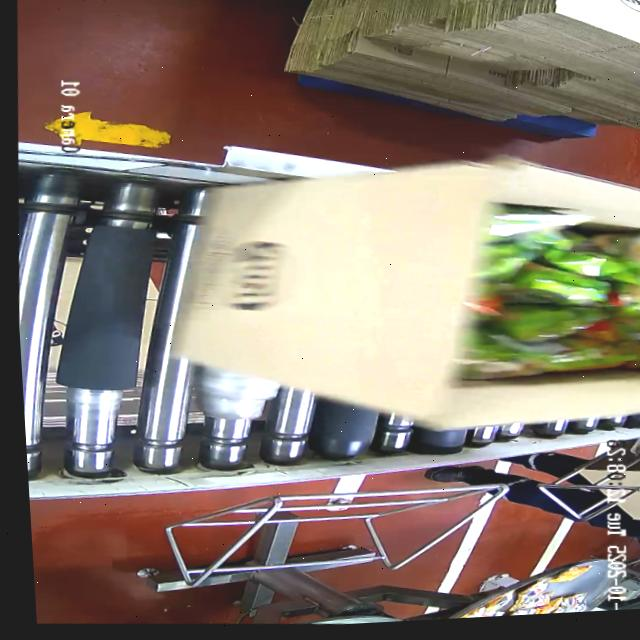YOGURT_HERB: (440, 197, 640, 400)
